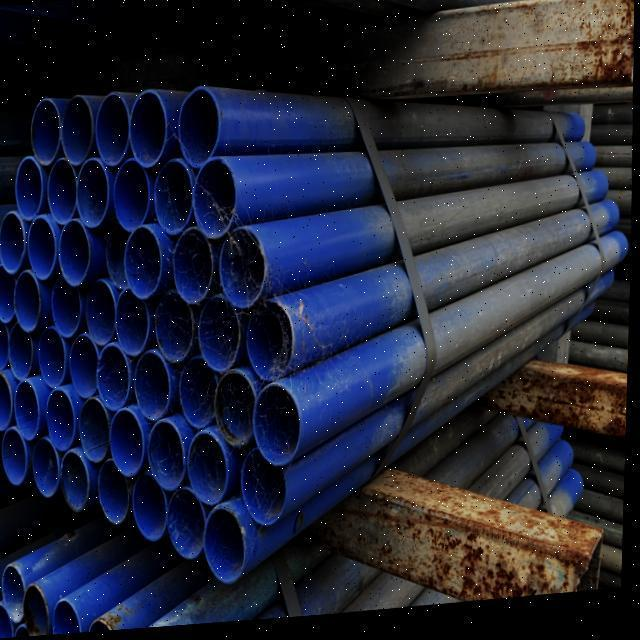pipe: (254, 383, 305, 473), (218, 225, 271, 310), (126, 83, 179, 165), (176, 78, 221, 165), (240, 442, 288, 523), (197, 292, 243, 373), (185, 429, 234, 503), (193, 155, 238, 235), (173, 226, 218, 306), (167, 473, 208, 559), (246, 304, 293, 377), (111, 151, 154, 229), (122, 219, 166, 295), (205, 506, 250, 580), (214, 369, 256, 447), (154, 151, 196, 228), (155, 286, 195, 363), (181, 351, 221, 426), (132, 460, 168, 543), (94, 86, 131, 165), (147, 419, 187, 492), (51, 261, 87, 337), (134, 347, 173, 417), (96, 337, 135, 407), (14, 248, 45, 334), (108, 404, 145, 476), (116, 282, 152, 353), (57, 214, 93, 283), (98, 450, 131, 524), (77, 152, 110, 225), (46, 149, 79, 221), (77, 393, 108, 465), (29, 92, 61, 161), (60, 91, 91, 162), (44, 381, 78, 443), (62, 444, 95, 507), (14, 149, 46, 213), (86, 275, 116, 342), (13, 373, 45, 435), (71, 328, 101, 394), (32, 432, 63, 495), (38, 321, 69, 381), (27, 211, 56, 275), (1, 421, 29, 480), (2, 560, 28, 623), (24, 582, 52, 637), (10, 316, 37, 372), (107, 219, 130, 283), (0, 206, 22, 266), (55, 597, 82, 636), (0, 258, 17, 319), (0, 366, 15, 425), (0, 602, 16, 639), (0, 317, 9, 361), (93, 617, 113, 634)
